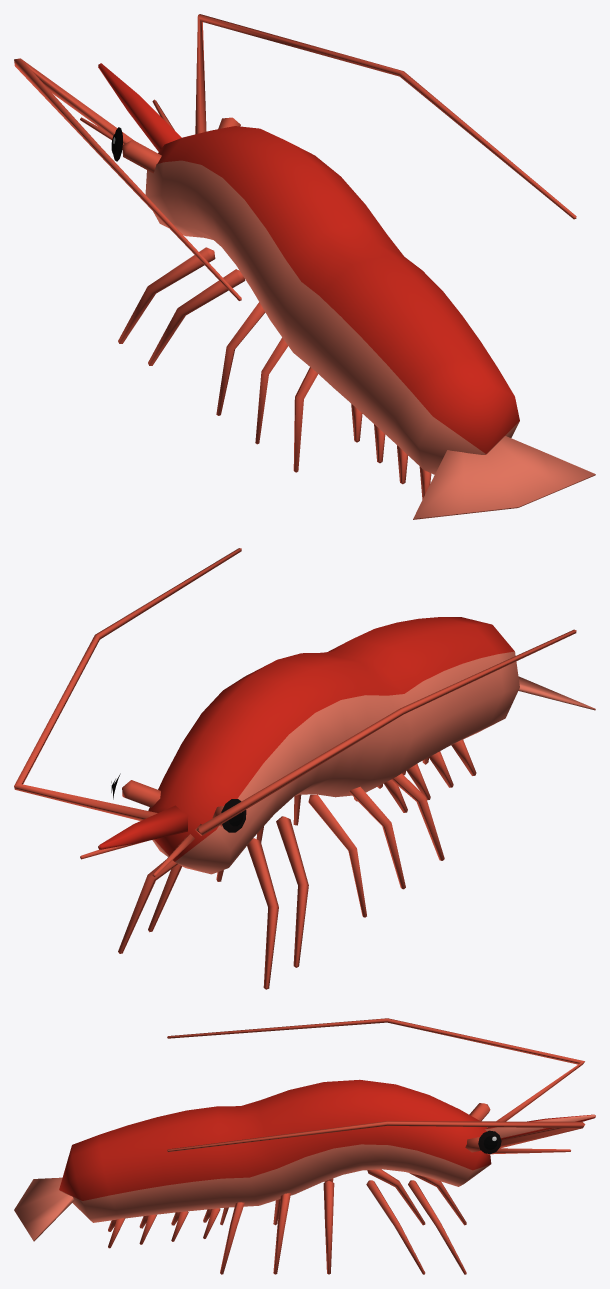
The model's file is opae_ula.glb.
3 views of the same model, one above another, from view 1: azimuth 30°, elevation 25°; view 2: azimuth 150°, elevation 25°; view 3: azimuth 270°, elevation 25° (orthographic). The views are drawn at different scales.
Visible parts, largest first — view 1: opae_ula; view 2: opae_ula; view 3: opae_ula.
Part boxes in pixels (x1,y1,x2,y2): opae_ula: (14,14,595,519); opae_ula: (14,548,595,989); opae_ula: (14,1018,595,1274).
Size of the model in its own units: 1.11 by 0.8124 by 2.39.
